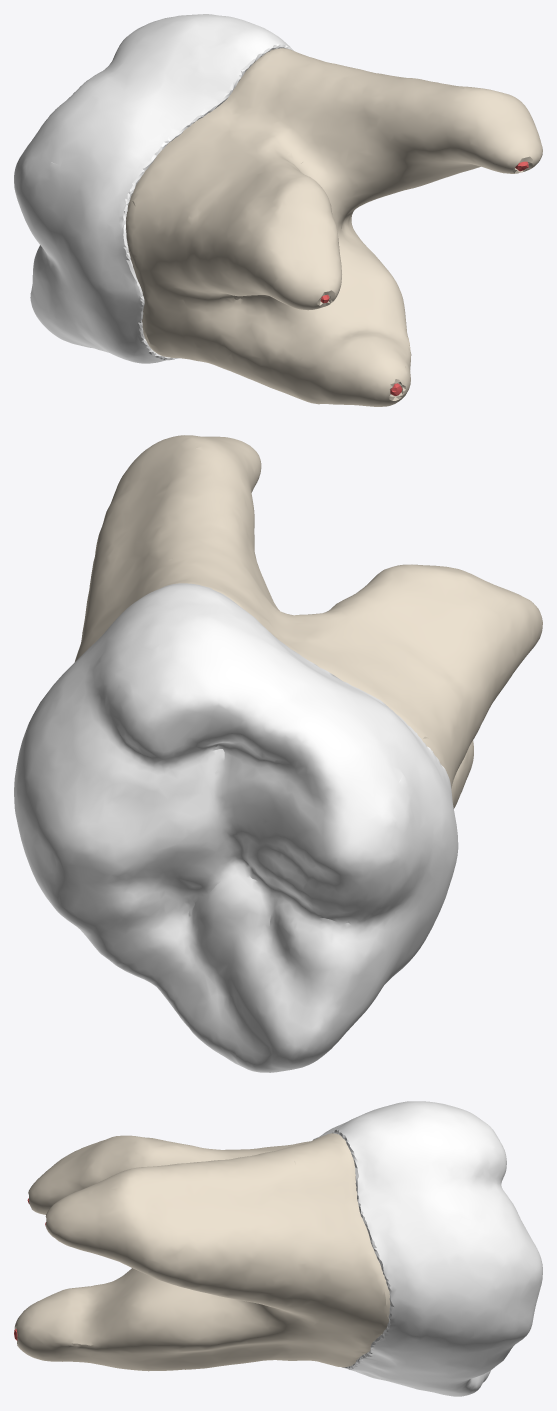
File: 恒牙上颌第二磨牙.fbx
3 views of the same model, one above another, from view 1: azimuth 30°, elevation 25°; view 2: azimuth 150°, elevation 25°; view 3: azimuth 270°, elevation 25° (orthographic). The views are drawn at different scales.
Parts seen in each view (by area): view 1: texture_B, texture_W; view 2: texture_W, texture_B; view 3: texture_B, texture_W.
Part boxes in pixels (<box>): texture_B: <box>126,48,542,406</box>; texture_W: <box>14,14,293,363</box>; texture_W: <box>14,583,458,1072</box>; texture_B: <box>75,435,542,808</box>; texture_B: <box>14,1133,390,1371</box>; texture_W: <box>313,1101,542,1396</box>.
Size of the model in its own units: 19.15 by 16.07 by 24.06.
3 materials, 3 textured.
